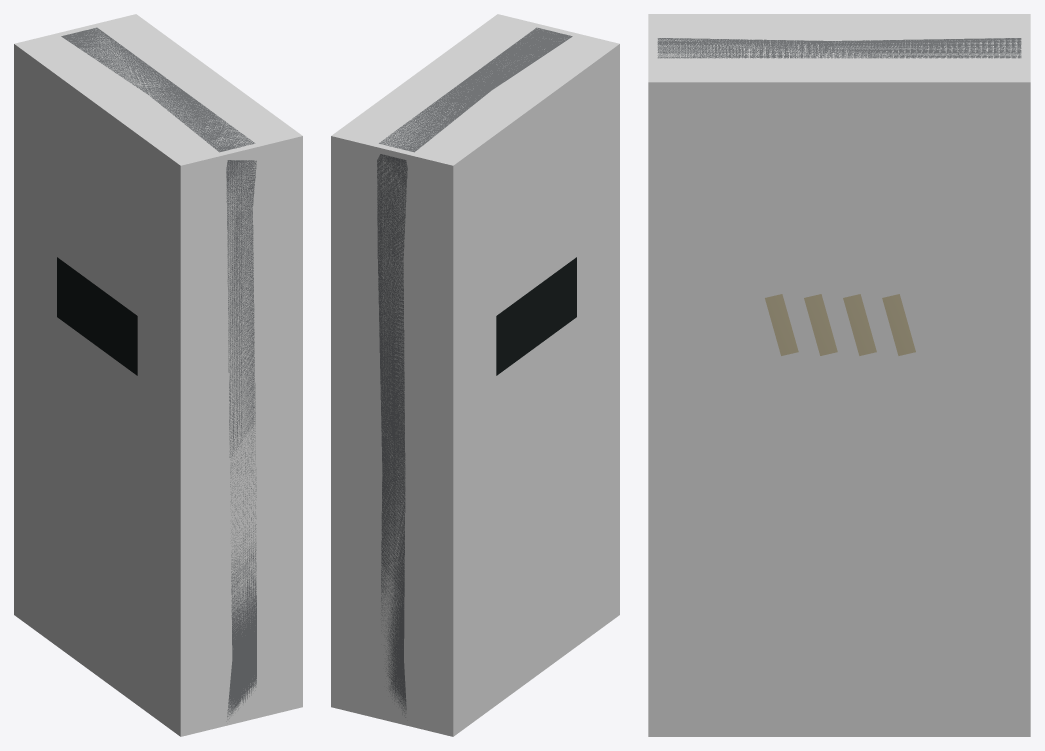
Rendered from prop_barrier.glb.
The picture shows the model from 3 angles, left to right: view 1: azimuth 30°, elevation 25°; view 2: azimuth 150°, elevation 25°; view 3: azimuth 270°, elevation 25°; orthographic projection. The views are drawn at different scales.
Parts seen in each view (by area): view 1: COL_prop_barrier, prop_barrier_concrete, prop_barrier_nc7_dark; view 2: COL_prop_barrier, prop_barrier_concrete, prop_barrier_nc7_dark; view 3: COL_prop_barrier, prop_barrier_concrete, prop_barrier_nc7_marking.
Part boxes in pixels (x1,y1,x2,y2): COL_prop_barrier: (14, 14, 302, 736); prop_barrier_concrete: (61, 27, 256, 721); prop_barrier_nc7_dark: (57, 257, 137, 375); COL_prop_barrier: (331, 14, 619, 736); prop_barrier_concrete: (377, 27, 572, 717); prop_barrier_nc7_dark: (496, 257, 576, 375); COL_prop_barrier: (648, 14, 1030, 736); prop_barrier_concrete: (657, 38, 1021, 58); prop_barrier_nc7_marking: (765, 294, 915, 355).
Size of the model in its own units: 0.7293 by 3.26 by 1.72.
